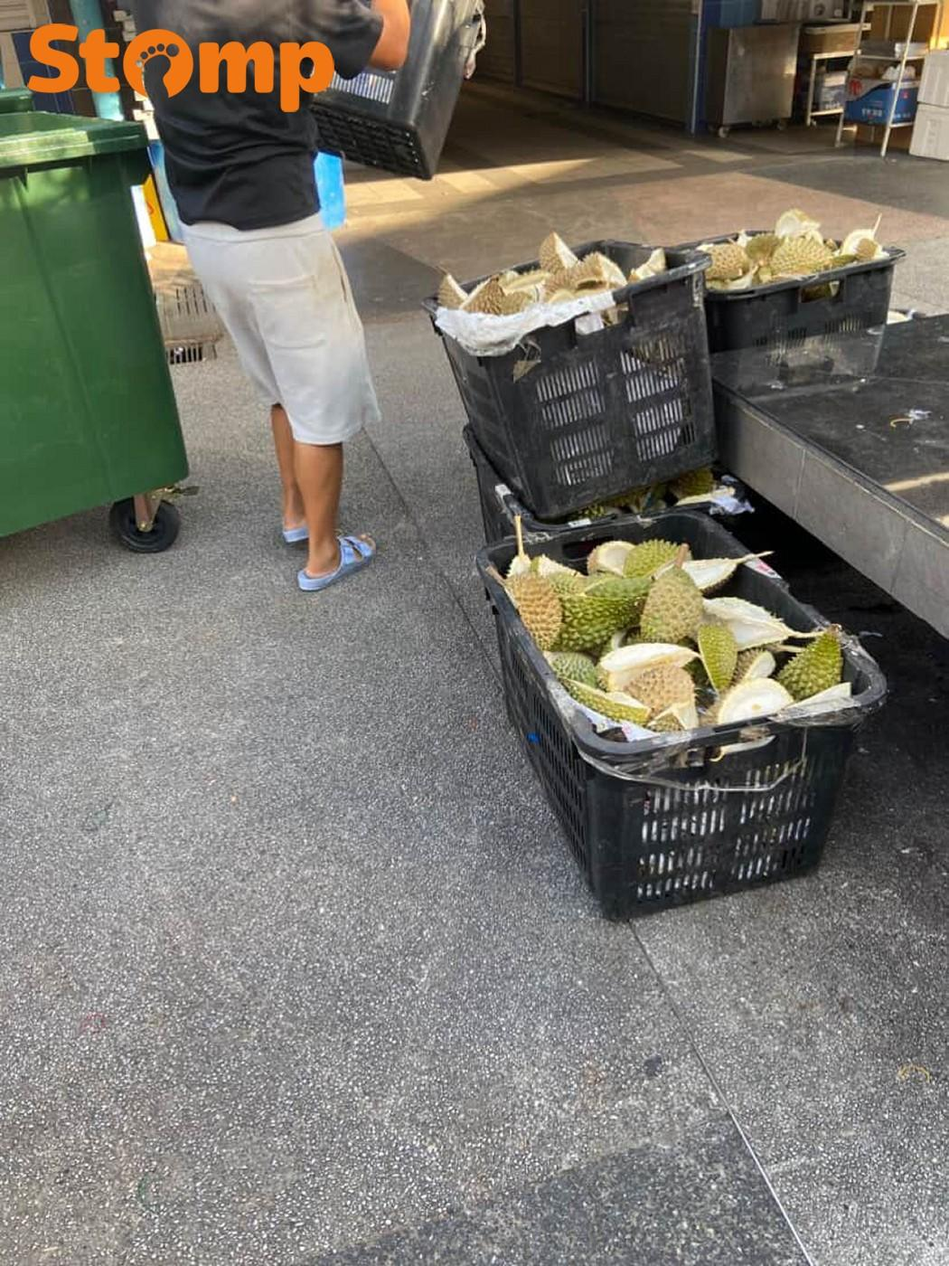bulk_waste: (478, 511, 885, 915), (423, 233, 714, 519), (697, 210, 904, 388)
